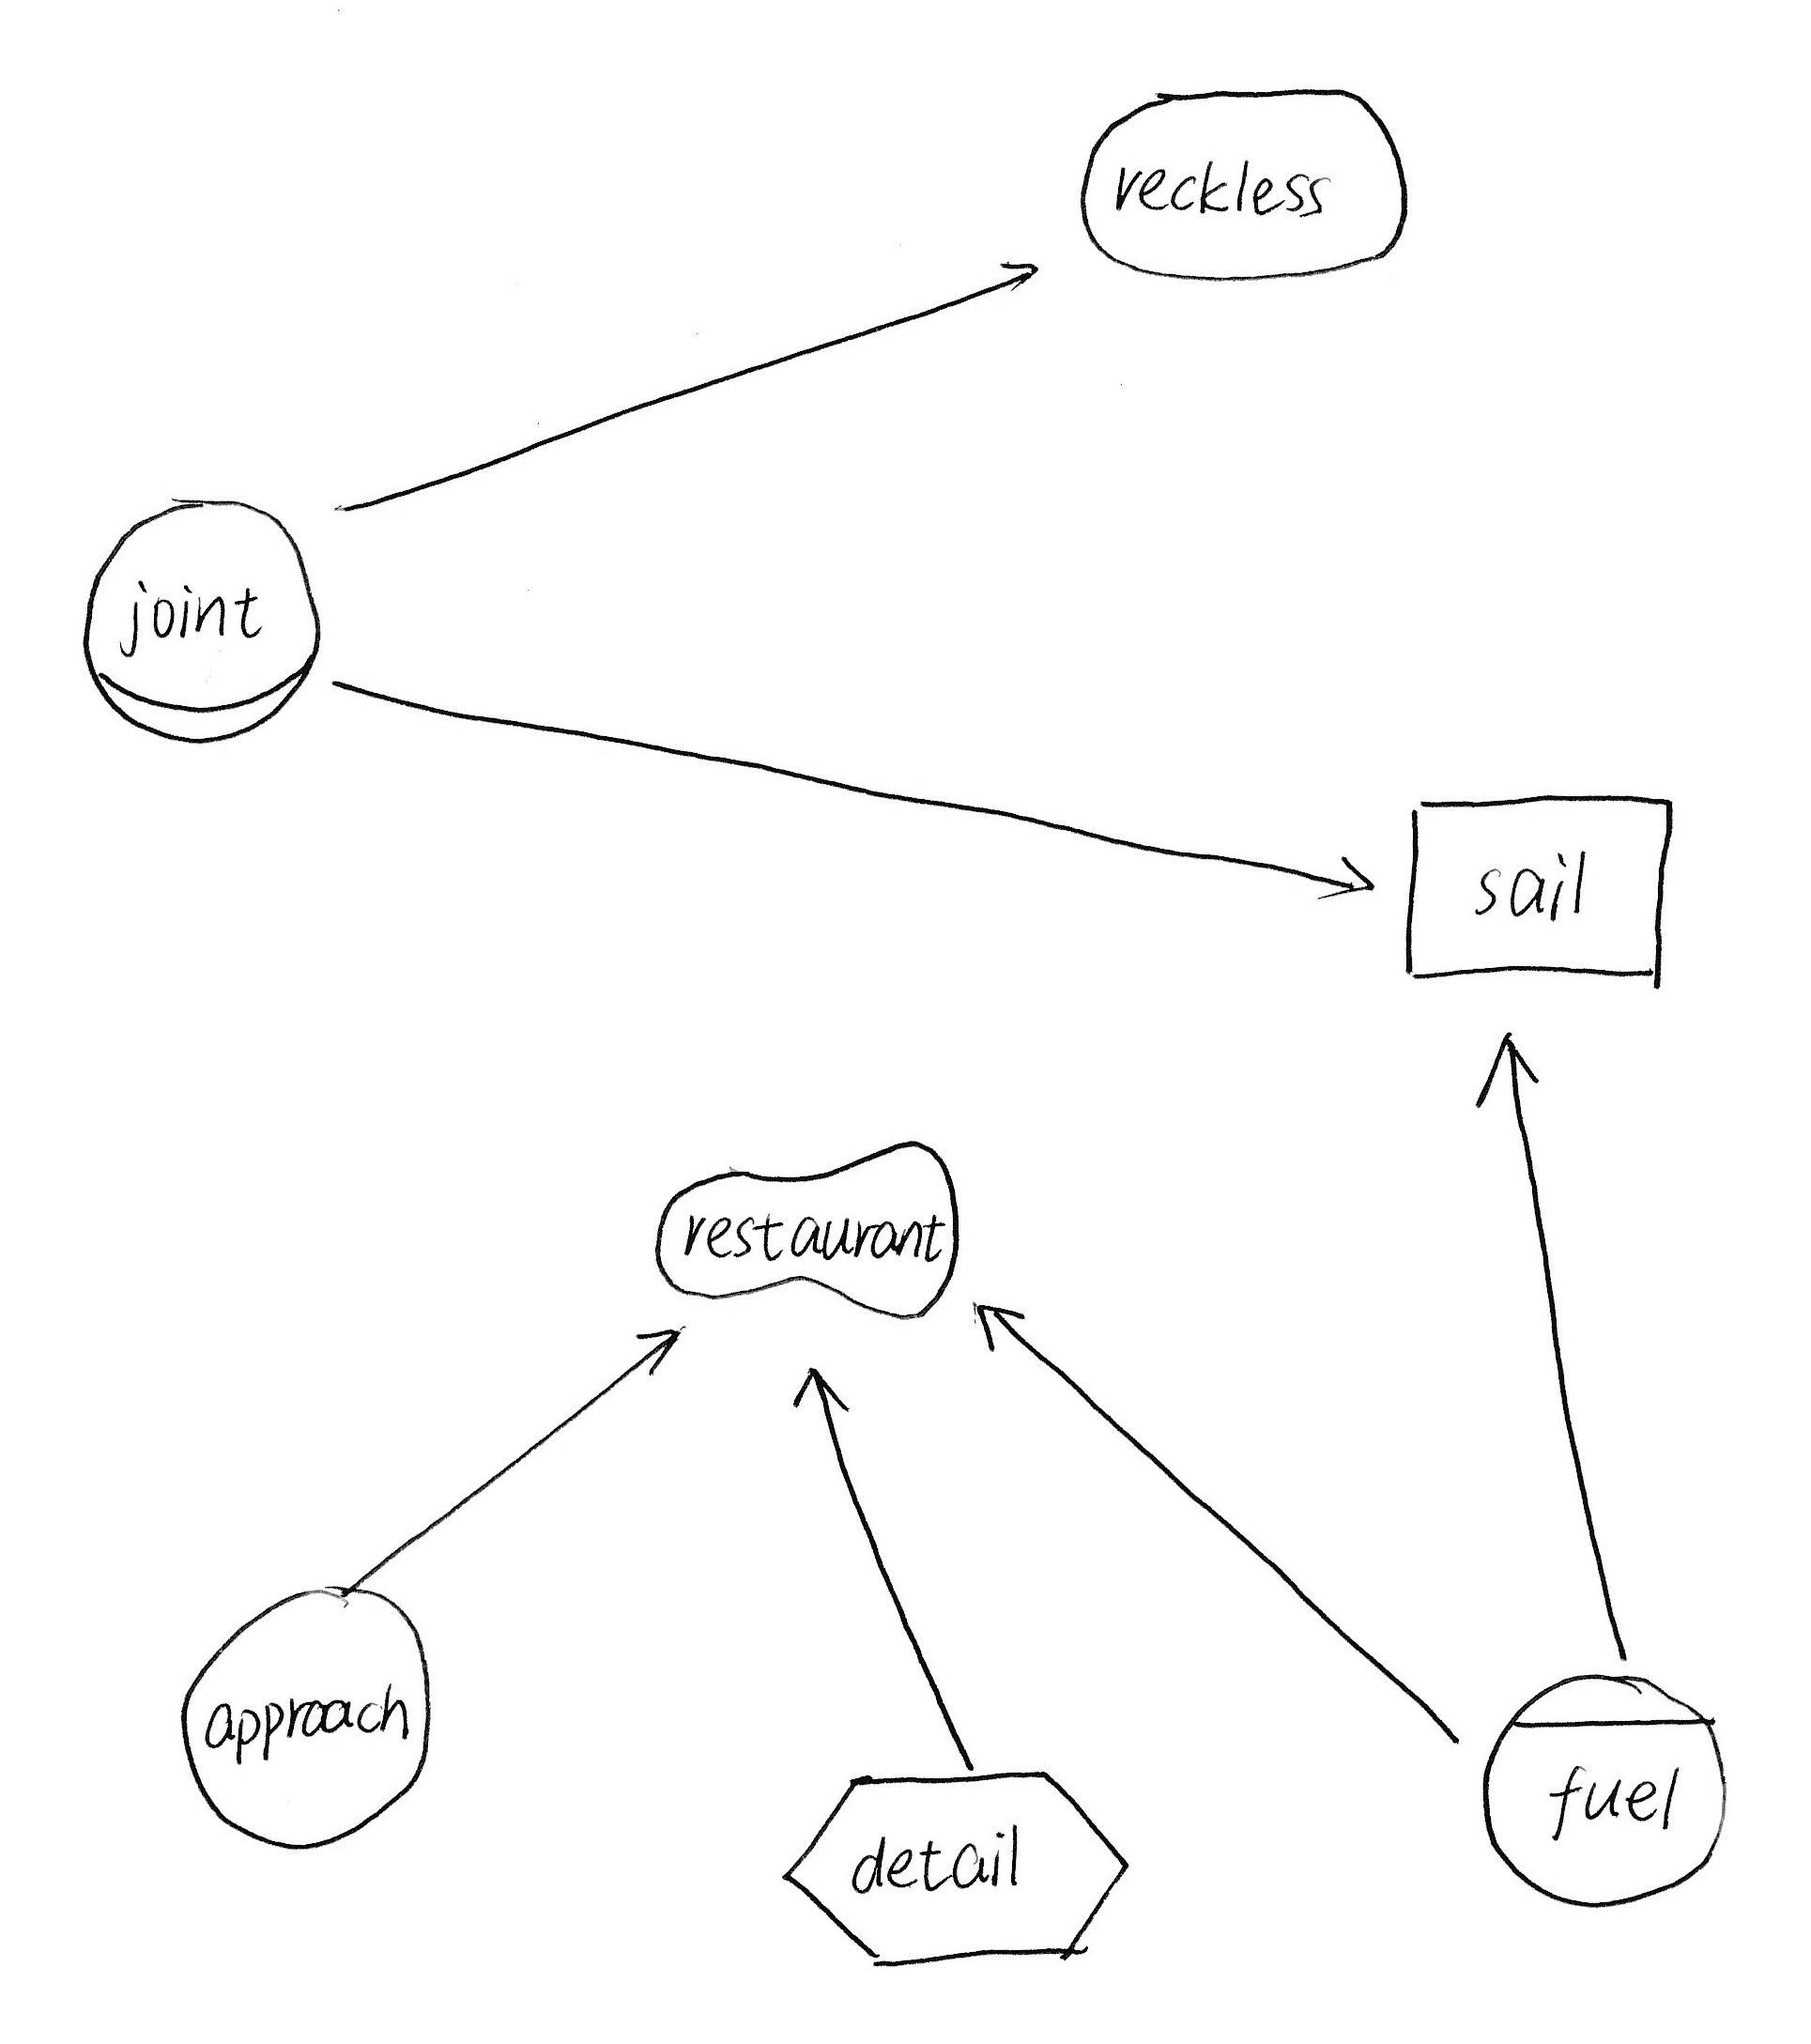actor: (157, 1563, 449, 1864)
agent: (1463, 1658, 1743, 1927)
arrow: (1465, 1014, 1552, 1124), (781, 1352, 869, 1436), (958, 1290, 1045, 1362), (1318, 836, 1393, 918), (624, 1313, 694, 1381), (986, 238, 1051, 308)
goal: (1061, 70, 1428, 294)
quality: (638, 1123, 974, 1336)
resource: (1384, 778, 1690, 998)
role: (58, 481, 334, 754)
task: (773, 1754, 1145, 1983)
